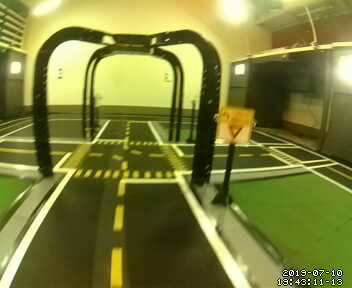Turn Yield: (219, 107, 253, 142)
